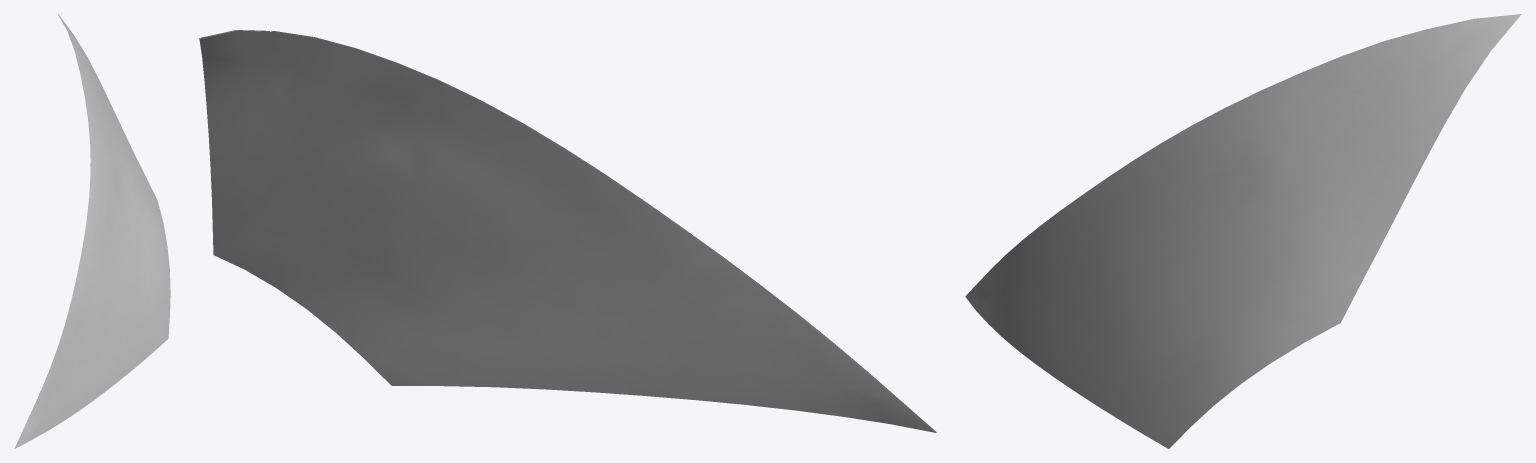
The model's file is Jac_Decor_Pocket_RIGHT_V2.glb.
3 views of the same model, side by side, from view 1: azimuth 30°, elevation 25°; view 2: azimuth 150°, elevation 25°; view 3: azimuth 270°, elevation 25° (orthographic). The views are drawn at different scales.
Visible parts, largest first — view 1: Jac_Decor_Pocket_RIGHT_V21; view 2: Jac_Decor_Pocket_RIGHT_V21; view 3: Jac_Decor_Pocket_RIGHT_V21.
Part boxes in pixels (bbox=[...]): Jac_Decor_Pocket_RIGHT_V21: bbox=[14, 14, 170, 448]; Jac_Decor_Pocket_RIGHT_V21: bbox=[199, 30, 936, 432]; Jac_Decor_Pocket_RIGHT_V21: bbox=[965, 14, 1521, 448].
Bounding box in the file's own units: 0.0812 × 0.0818 × 0.0907.
1 material, 1 textured.
